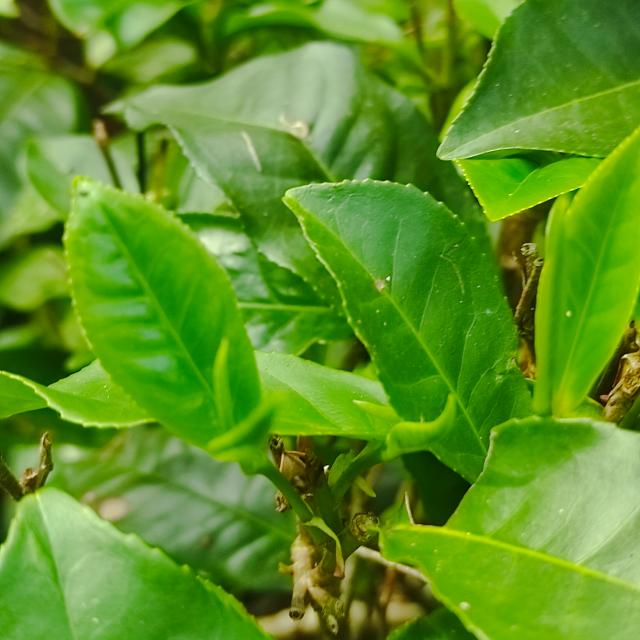unopened_leaf: (373, 385, 463, 474), (207, 330, 240, 433), (347, 391, 412, 430)
